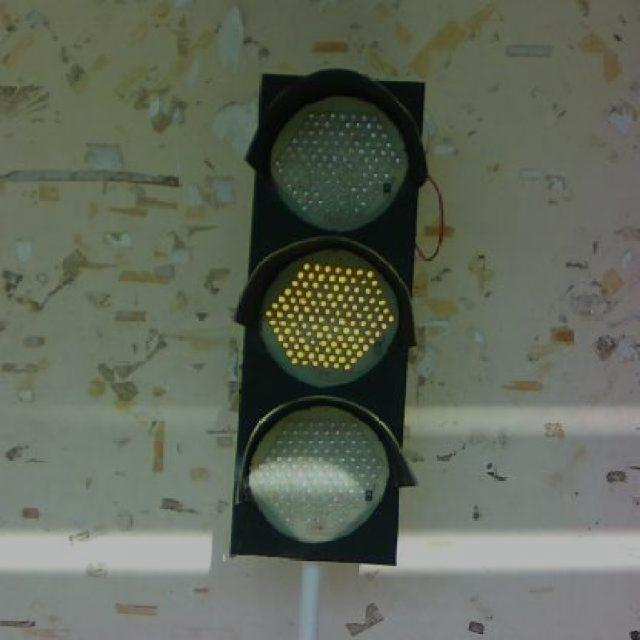Yellow: (216, 53, 432, 580)
